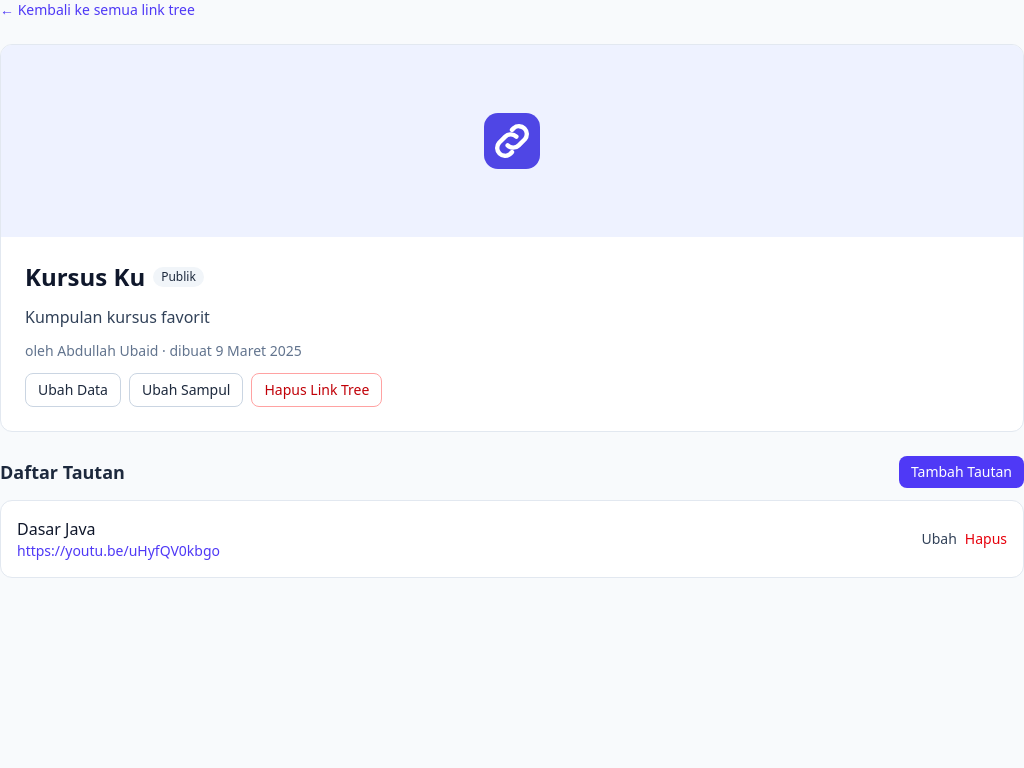
Test: DetailPage › menambah tautan baru
Click the button "Tambah Tautan" at (961, 472), box [899,456,1023,488]
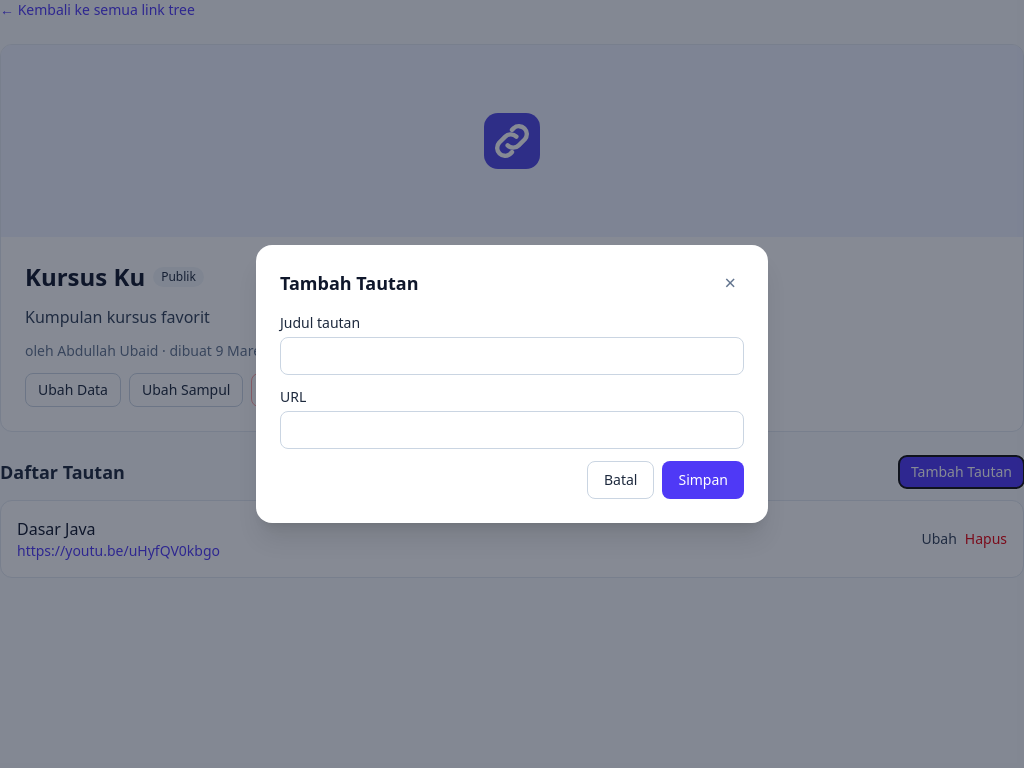
Type "Delcom" into the field labelled "Judul tautan" at (512, 356), box [280,337,744,375]
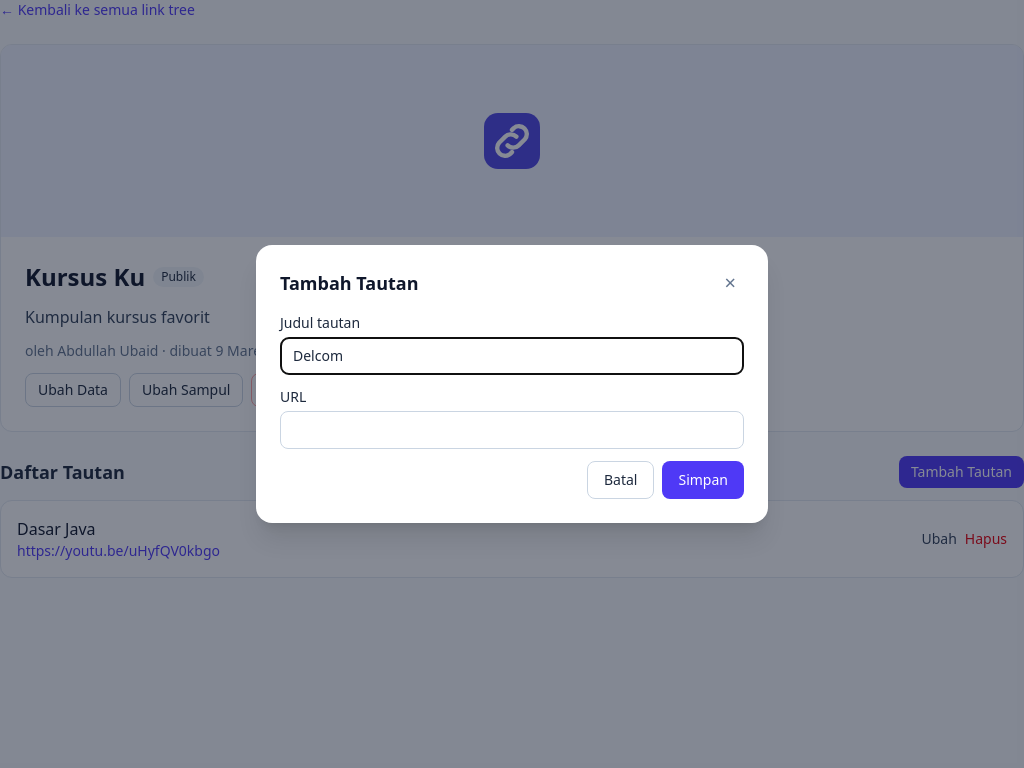
Type "https://delcom.org" into the field labelled "URL" at (512, 430), box [280,411,744,449]
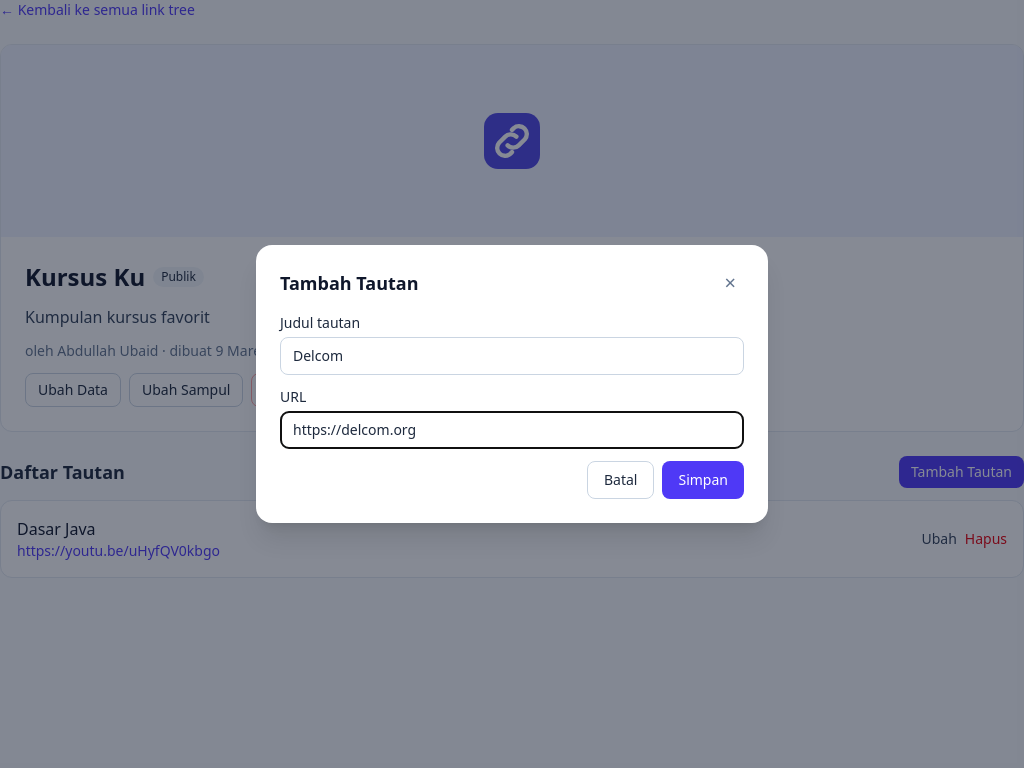
Click the button "Simpan" at (703, 480), box [662,461,744,499]
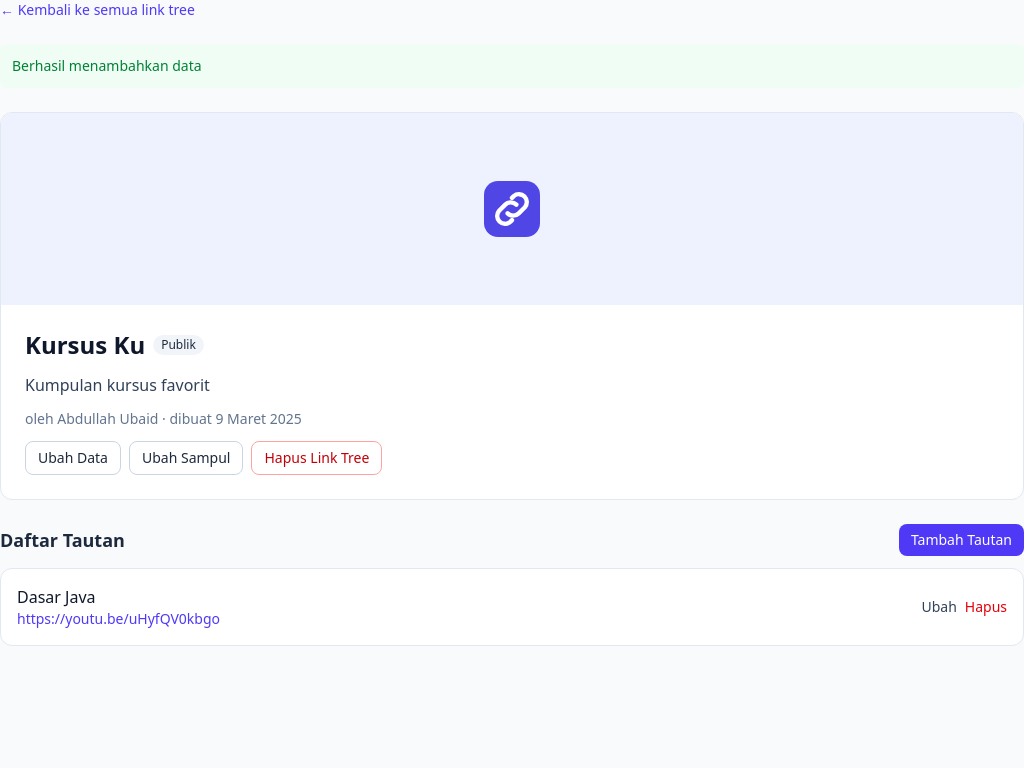
Expected: the dialog is gone
